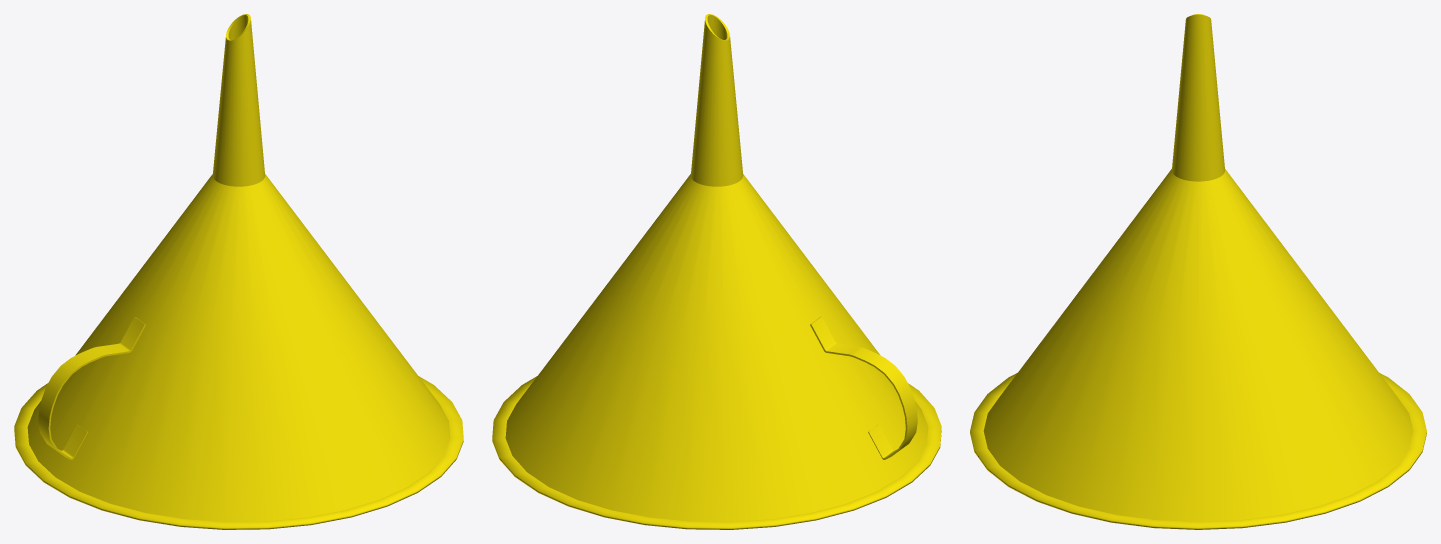
The model's file is SM_Funel.FBX.
3 renders of one model, left to right at view 1: azimuth 30°, elevation 25°; view 2: azimuth 150°, elevation 25°; view 3: azimuth 270°, elevation 25°, orthographic.
Visible parts, largest first — view 1: Funel; view 2: Funel; view 3: Funel.
Part boxes in pixels (box(x1,y1,x2,y2)): Funel: box(14, 14, 463, 529); Funel: box(492, 14, 941, 529); Funel: box(970, 14, 1426, 529).
Bounding box in the file's own units: 238 × 243 × 238.
